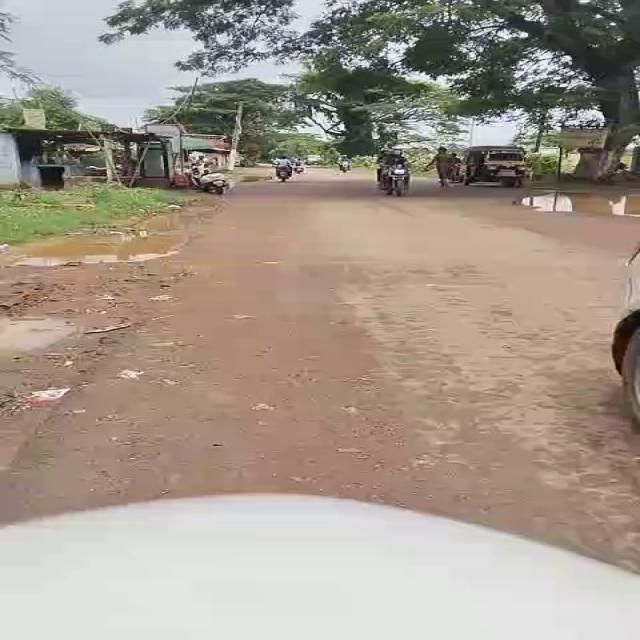pothole: (17, 233, 190, 262), (513, 194, 640, 216), (3, 310, 74, 347), (145, 201, 206, 233)
